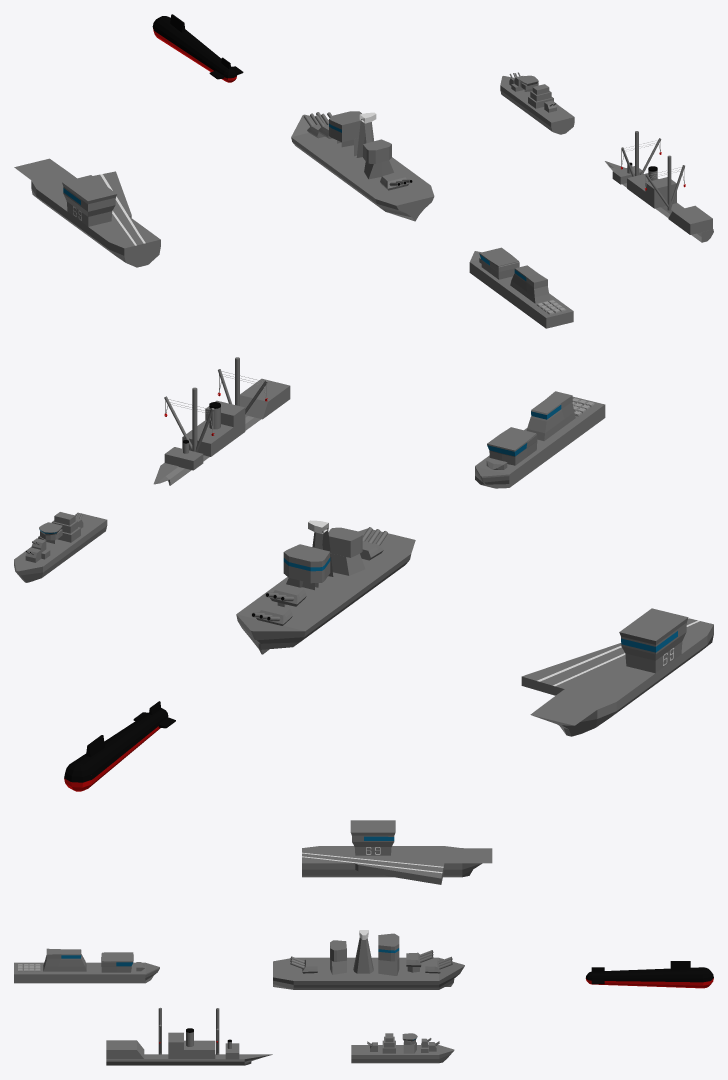
File: Ships.glb
3 views of the same model, one above another, from view 1: azimuth 30°, elevation 25°; view 2: azimuth 150°, elevation 25°; view 3: azimuth 270°, elevation 25° (orthographic). The views are drawn at different scales.
Parts seen in each view (by area): view 1: Aircraft-Carrier.001, ship.013, Cruiser.001, Sphere, Cube, Cube.020, Cube.030, Cube.018, Cube.022; view 2: Aircraft-Carrier.001, ship.013, Cruiser.001, Sphere, Cube, Cube.020, Cube.018, Cube.030, Cube.022, Cube.013; view 3: Aircraft-Carrier.001, ship.013, Cruiser.001, Sphere, Cube, Cube.013, Cube.020, Cube.030, Cube.018, Cube.019.
Part boxes in pixels (<box>): Aircraft-Carrier.001: <box>14,158,160,267</box>; ship.013: <box>291,114,434,221</box>; Cruiser.001: <box>469,247,573,328</box>; Sphere: <box>152,16,236,82</box>; Cube: <box>500,76,574,134</box>; Cube.020: <box>627,173,676,208</box>; Cube.030: <box>668,205,712,234</box>; Cube.018: <box>329,111,361,142</box>; Cube.022: <box>363,139,391,163</box>; Aircraft-Carrier.001: <box>521,608,713,736</box>; ship.013: <box>236,528,415,654</box>; Cruiser.001: <box>475,391,605,488</box>; Sphere: <box>64,708,168,791</box>; Cube: <box>14,512,107,582</box>; Cube.020: <box>182,400,245,456</box>; Cube.018: <box>283,544,330,583</box>; Cube.030: <box>240,378,290,419</box>; Cube.022: <box>328,527,362,557</box>; Cube.013: <box>153,415,261,485</box>; Aircraft-Carrier.001: <box>302,820,492,884</box>; ship.013: <box>273,957,464,989</box>; Cruiser.001: <box>14,948,159,983</box>; Sphere: <box>585,967,713,988</box>; Cube: <box>351,1043,454,1063</box>; Cube.013: <box>106,1054,272,1065</box>; Cube.020: <box>168,1032,215,1058</box>; Cube.030: <box>106,1040,144,1058</box>; Cube.018: <box>378,933,399,961</box>; Cube.019: <box>353,937,373,973</box>.
Bounding box in the file's own units: 46.61 × 6.08 × 66.2.
